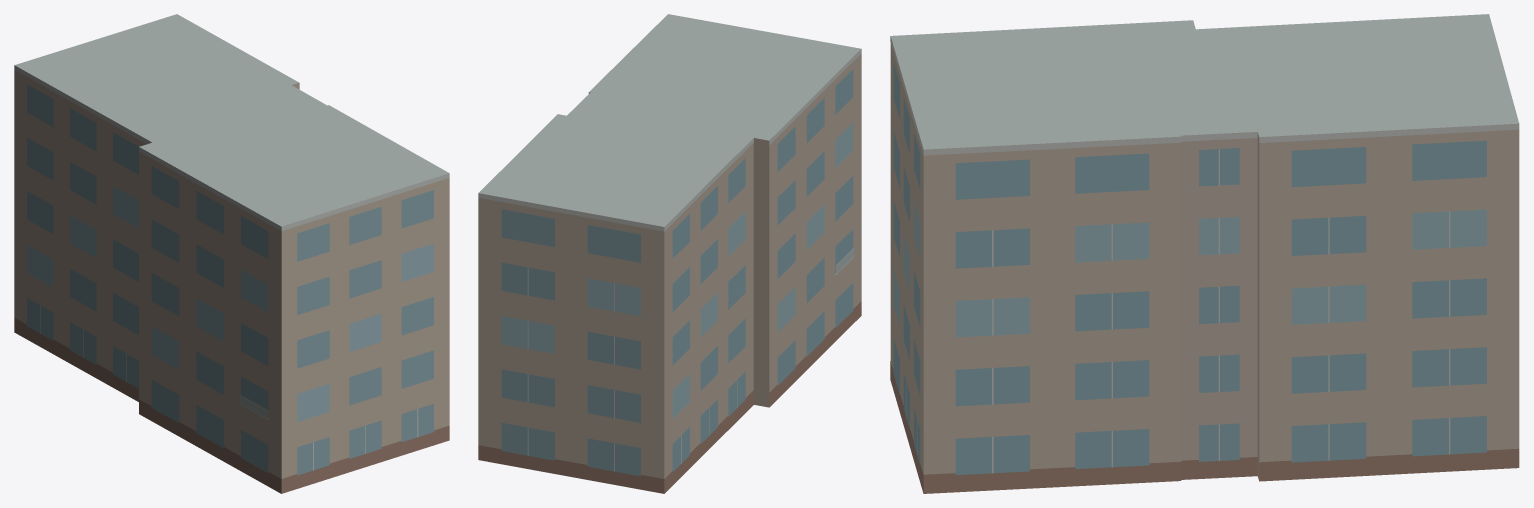
Rendered from survey-upis-32655678.glb.
3 views of the same model, side by side, from view 1: azimuth 30°, elevation 25°; view 2: azimuth 150°, elevation 25°; view 3: azimuth 270°, elevation 25° (orthographic). The views are drawn at different scales.
Visible parts, largest first — view 1: survey-upis-32655678.tmp; view 2: survey-upis-32655678.tmp; view 3: survey-upis-32655678.tmp.
Boxes of the visible parts, x1,y1,x2,y2 form: survey-upis-32655678.tmp: [14, 14, 449, 493]; survey-upis-32655678.tmp: [478, 14, 861, 493]; survey-upis-32655678.tmp: [890, 14, 1519, 493].
Size of the model in its own units: 11.84 by 14 by 23.18.
